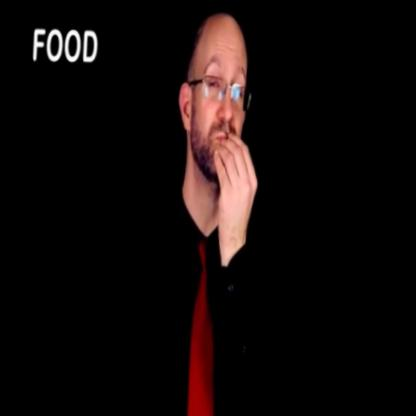Food: (144, 5, 288, 416)
